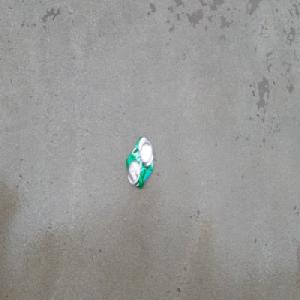SodaCan: (125, 135, 155, 190)
